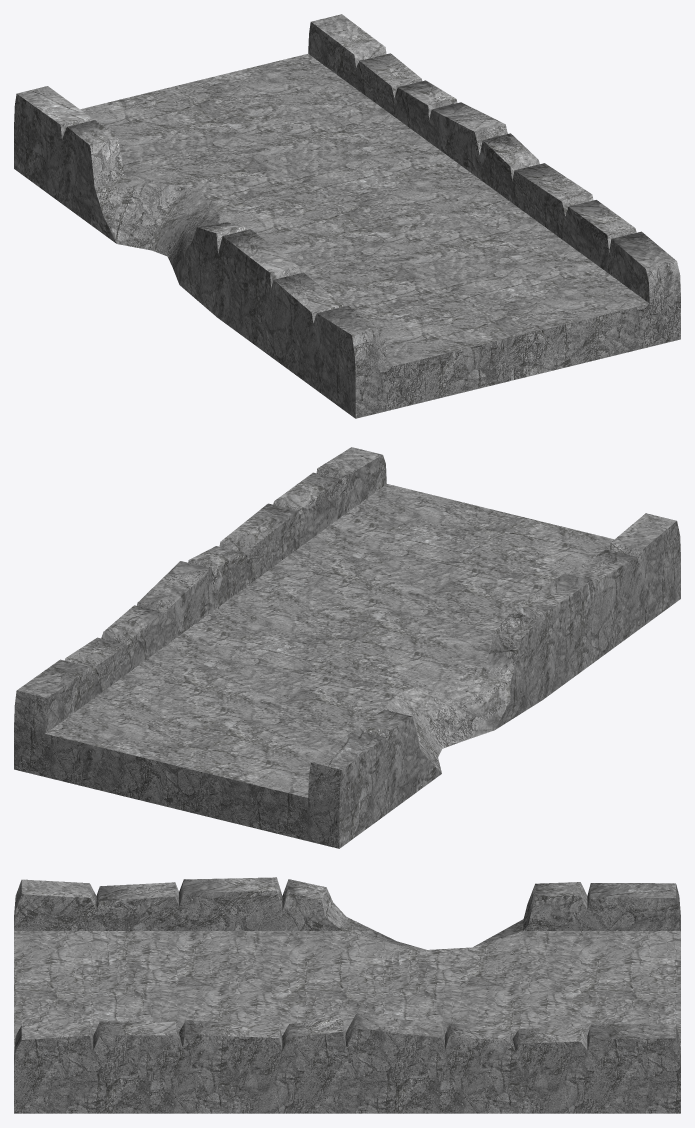
The model's file is materials_3_road_1.fbx.
3 renders of one model, top to bottom at view 1: azimuth 30°, elevation 25°; view 2: azimuth 150°, elevation 25°; view 3: azimuth 270°, elevation 25°, orthographic. The views are drawn at different scales.
Visible parts, largest first — view 1: materials_3_road_1; view 2: materials_3_road_1; view 3: materials_3_road_1.
Boxes of the visible parts, left/top/right/bottom form: materials_3_road_1: left=14, top=14, right=680, bottom=418; materials_3_road_1: left=14, top=447, right=680, bottom=848; materials_3_road_1: left=14, top=877, right=680, bottom=1113.
Bounding box in the file's own units: 235 × 59.61 × 425.
